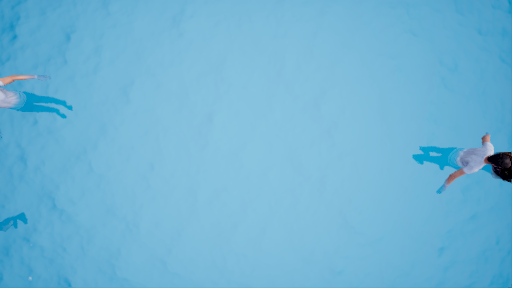person: (400, 124, 511, 182), (1, 73, 83, 122)
